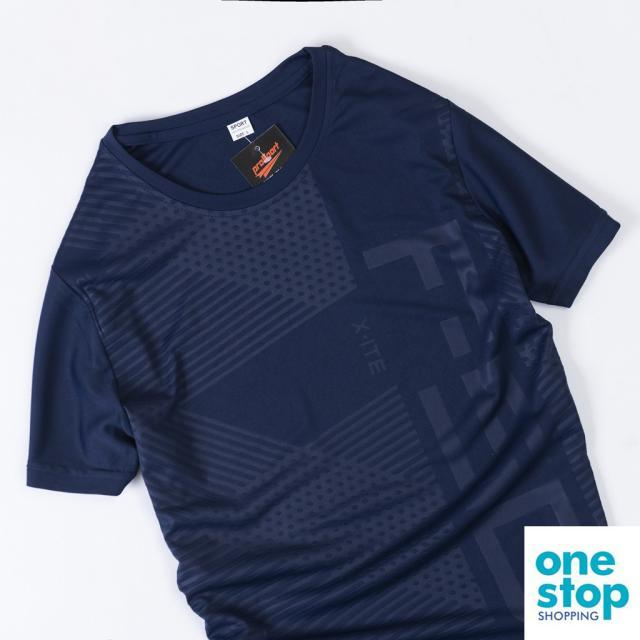Shirt: (28, 45, 621, 640)
